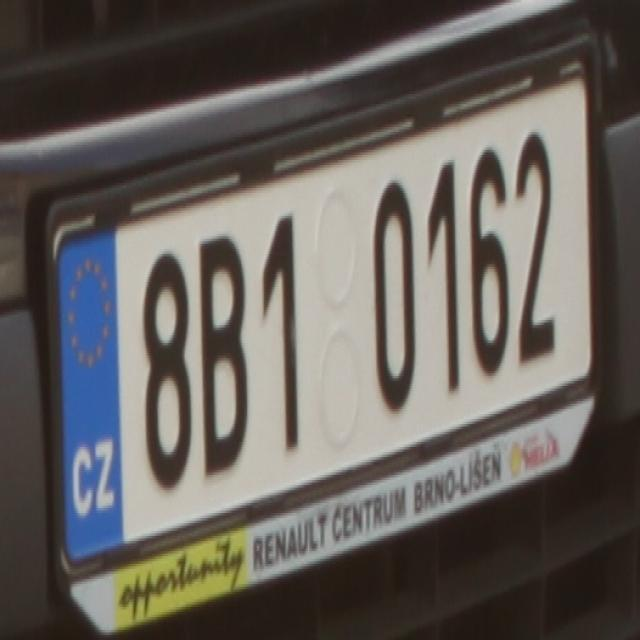0: (368, 176, 420, 407)
1: (262, 221, 304, 452), (424, 154, 464, 396)
2: (514, 130, 558, 368)
6: (467, 145, 510, 376)
8: (139, 249, 190, 482)
B: (195, 238, 248, 481)
